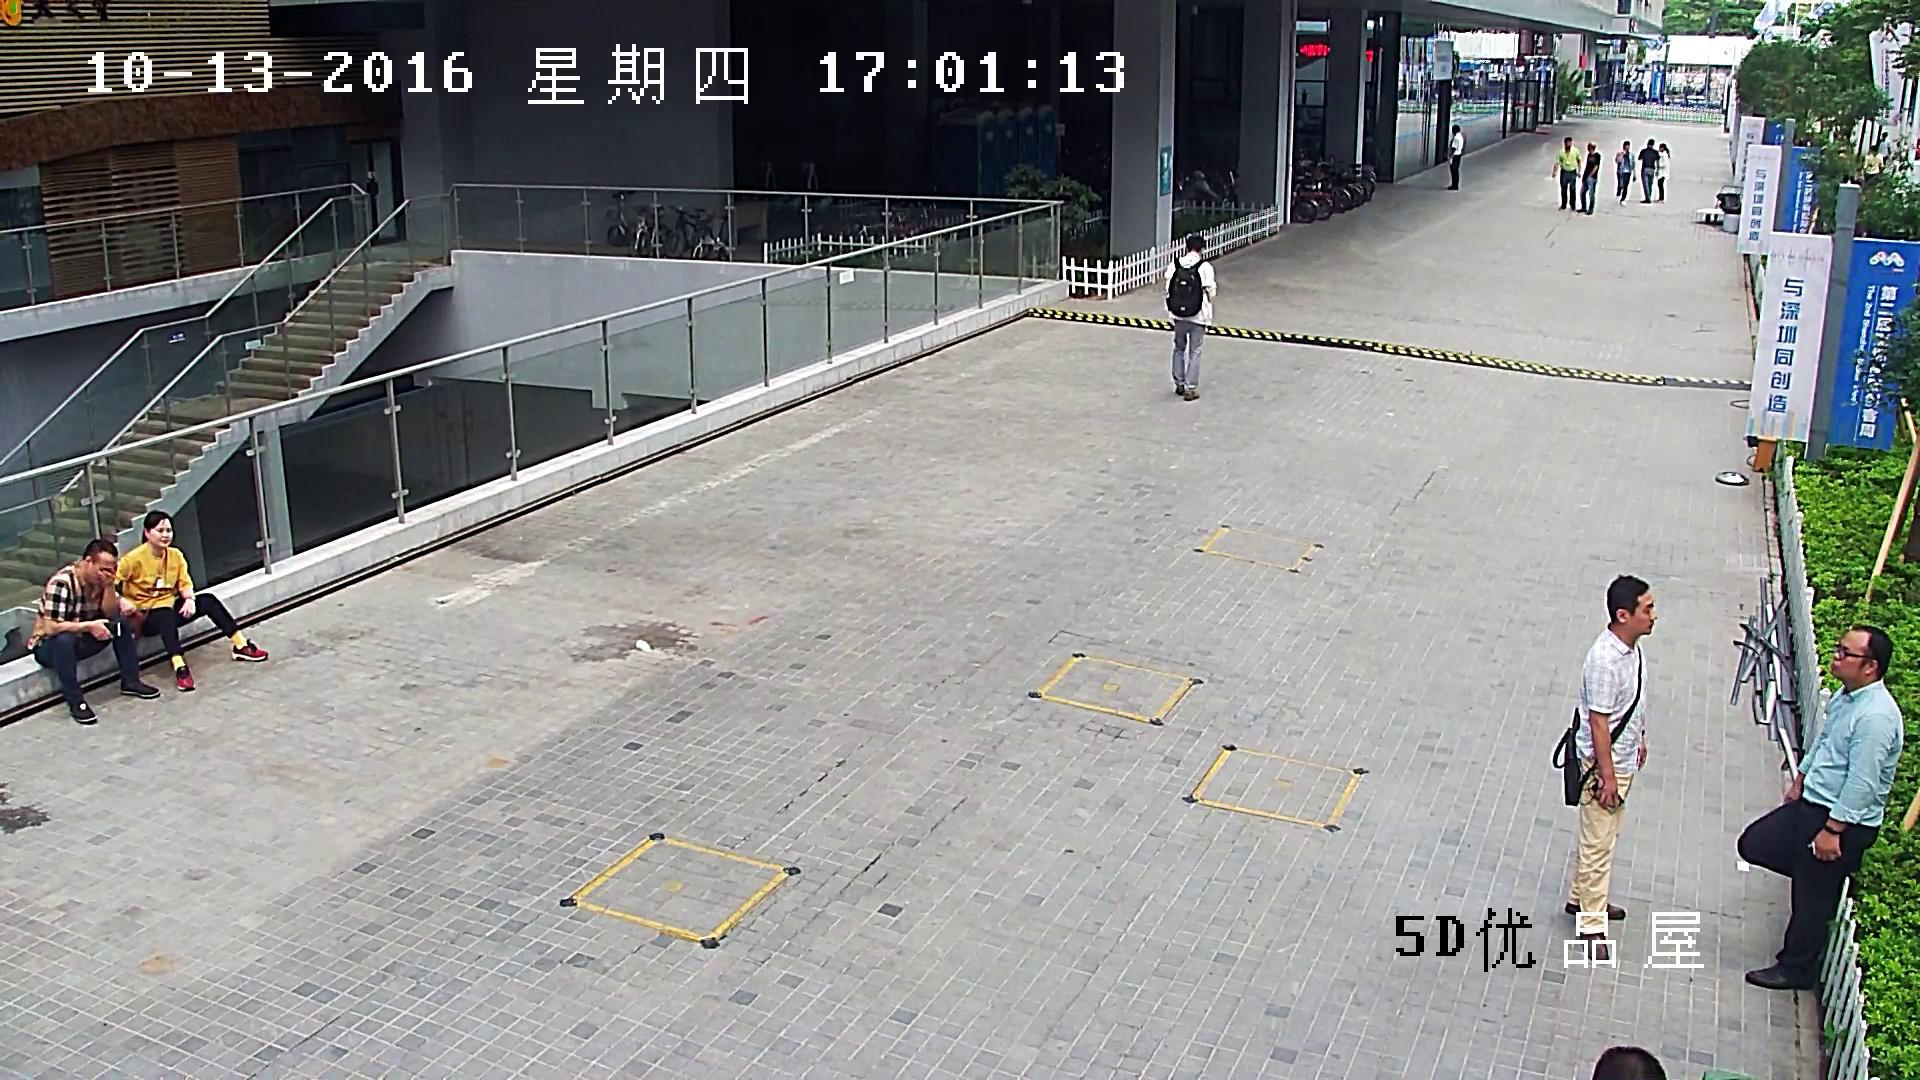person: (1738, 626, 1903, 989), (1553, 574, 1657, 959), (114, 511, 267, 691), (26, 538, 161, 723), (1164, 235, 1216, 400), (1551, 136, 1581, 211), (1575, 142, 1600, 213), (1637, 138, 1659, 203), (1615, 140, 1637, 205), (1446, 124, 1464, 190), (1654, 142, 1669, 203), (1863, 146, 1883, 179), (1878, 132, 1890, 163)
